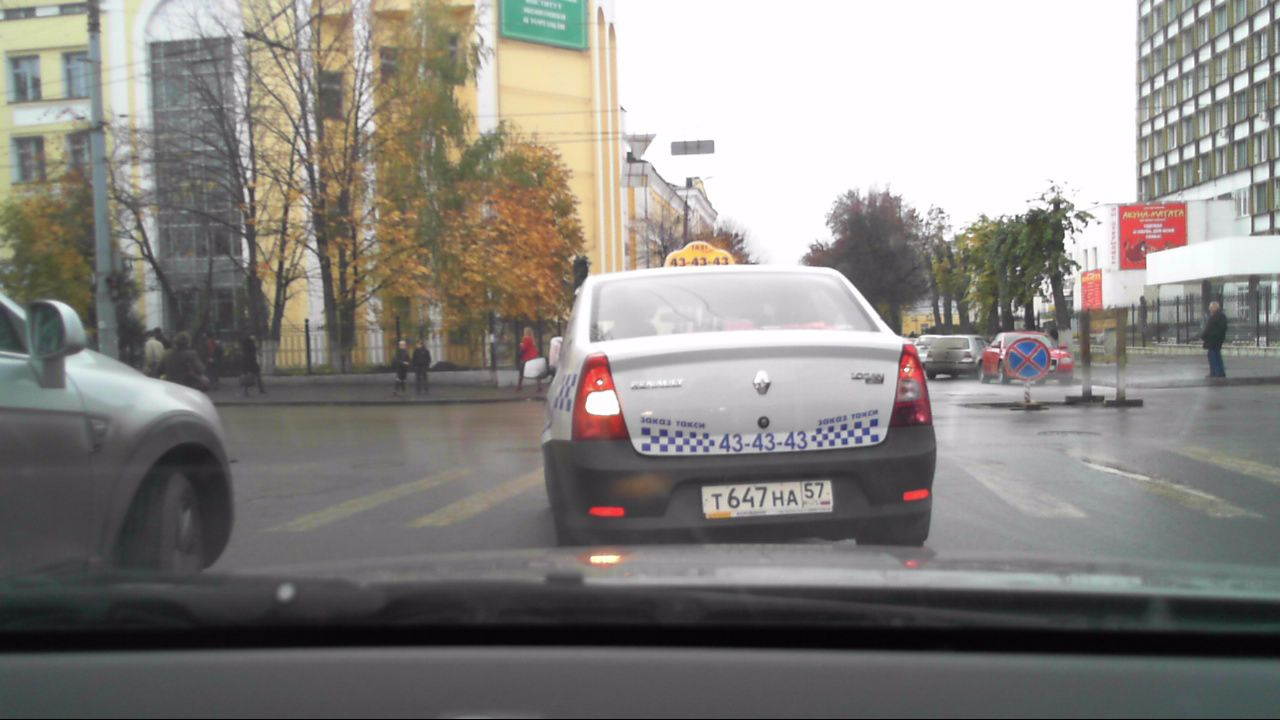No Parking: (1002, 338, 1055, 384)
